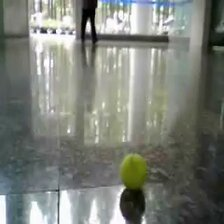tennis: (120, 153, 147, 186)
